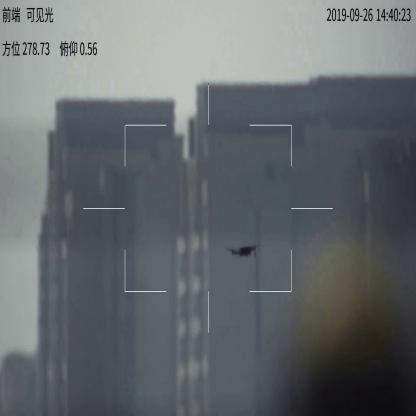uav: (224, 244, 255, 260)
